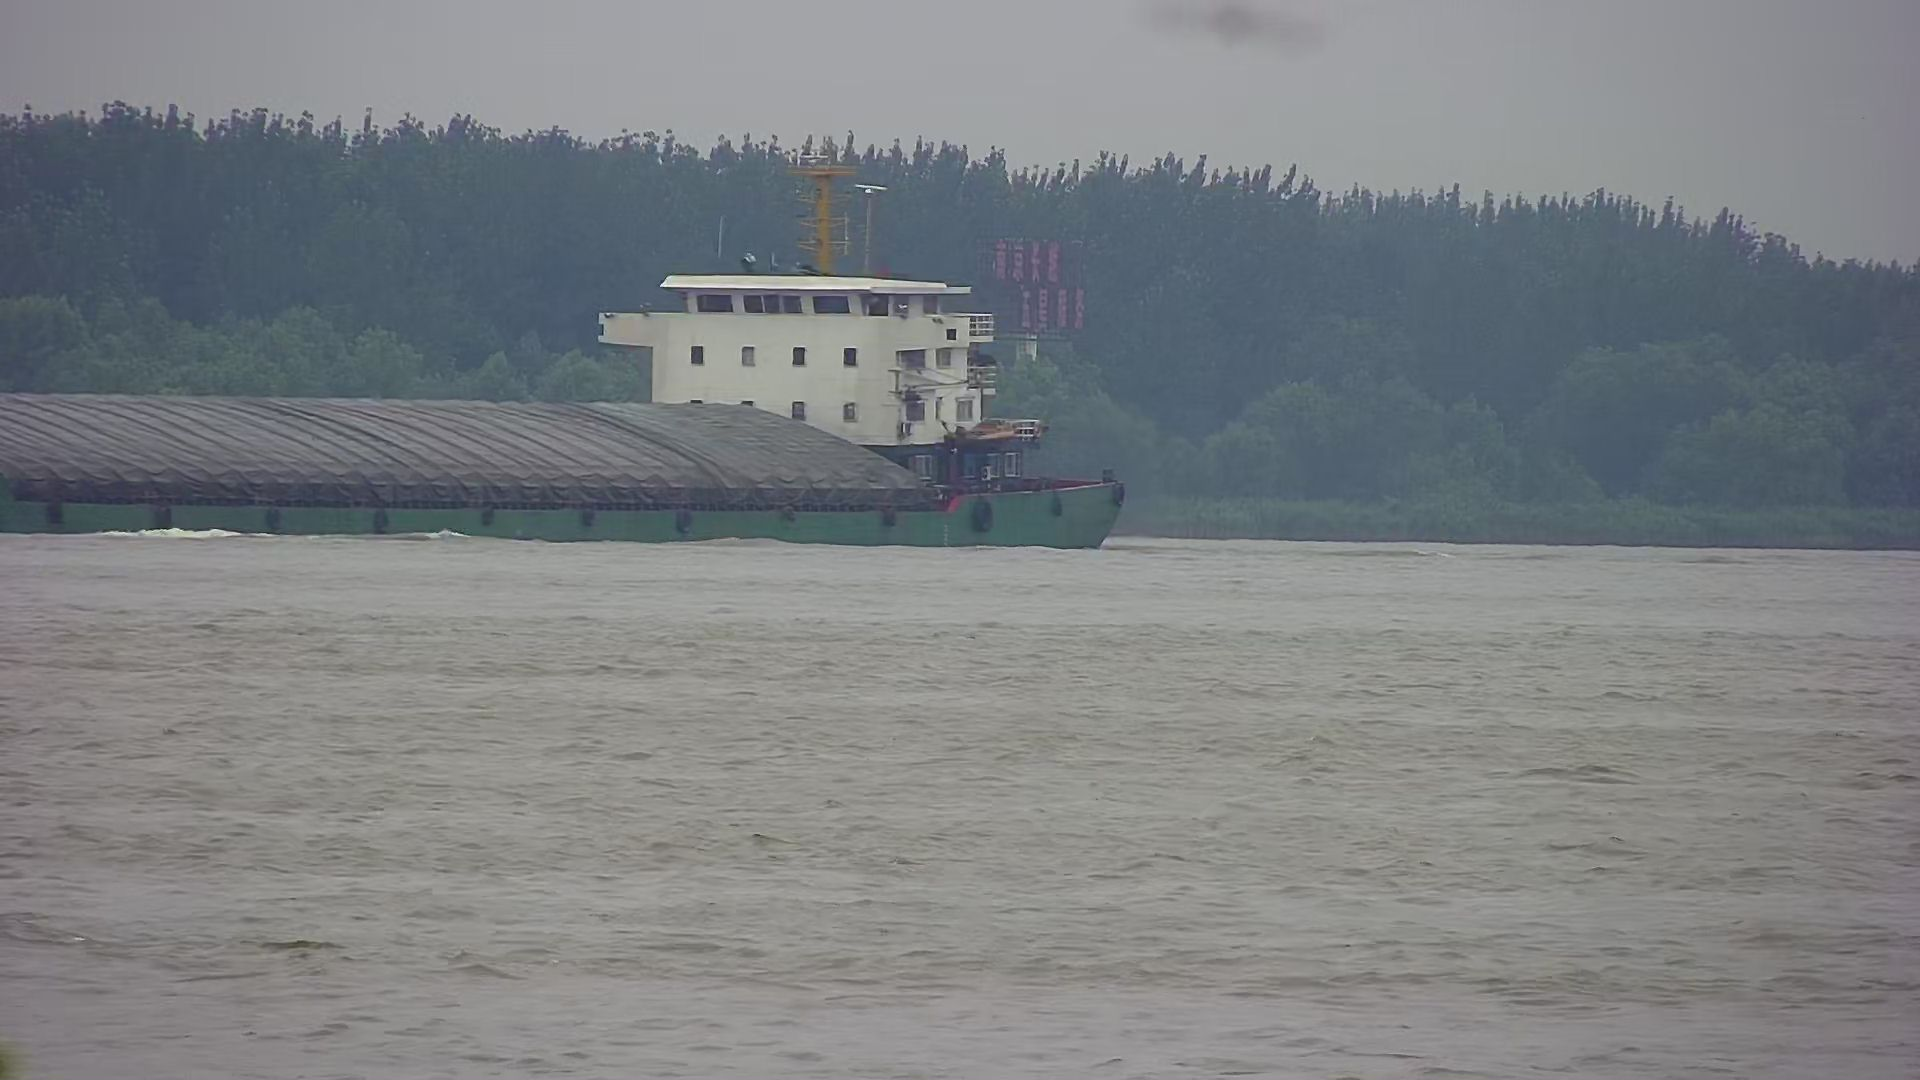ship: (3, 146, 1124, 574)
